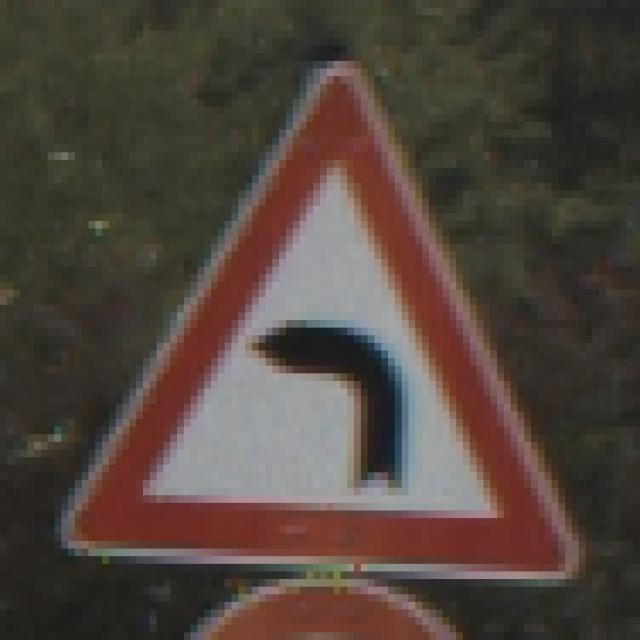left hand curve: (51, 54, 590, 590)
